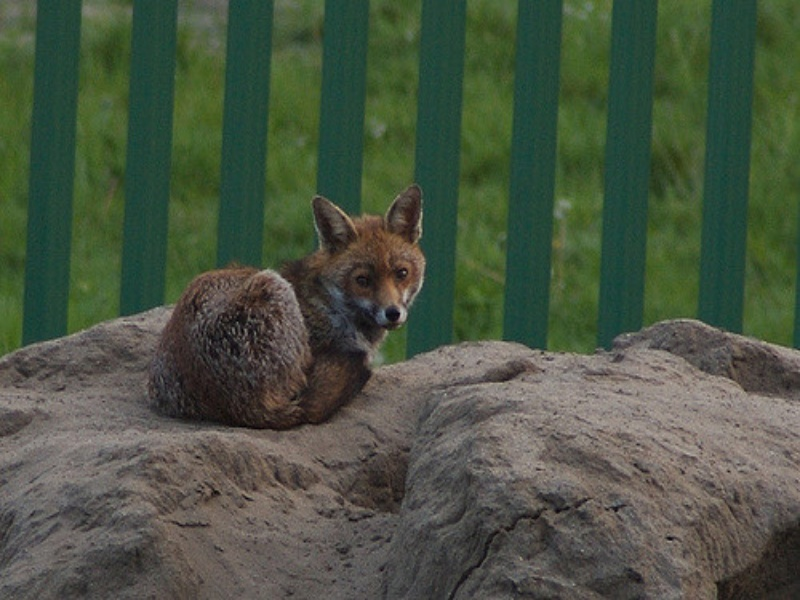fox: (139, 180, 429, 434)
